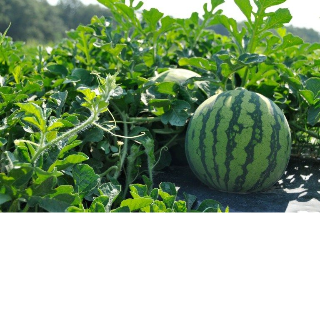dua_hau: (185, 85, 289, 195)
